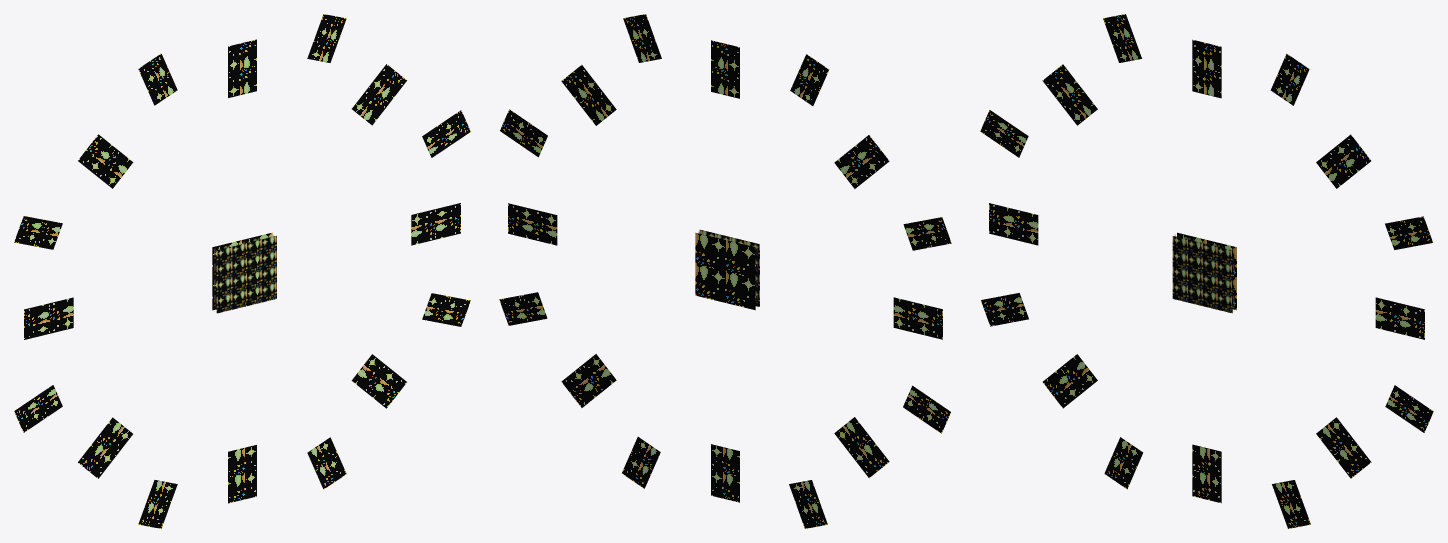
3 renders of one model, left to right at view 1: azimuth 30°, elevation 25°; view 2: azimuth 150°, elevation 25°; view 3: azimuth 330°, elevation 25°, orthographic.
Visible parts, largest first — view 1: ef_115; view 2: ef_115; view 3: ef_115.
Boxes of the visible parts, left/top/right/bottom form: ef_115: left=14, top=14, right=470, bottom=528; ef_115: left=499, top=14, right=951, bottom=528; ef_115: left=980, top=14, right=1433, bottom=528.
Bounding box in the file's own units: 4.53 × 4.53 × 0.0906.
2 materials, 2 textured.
